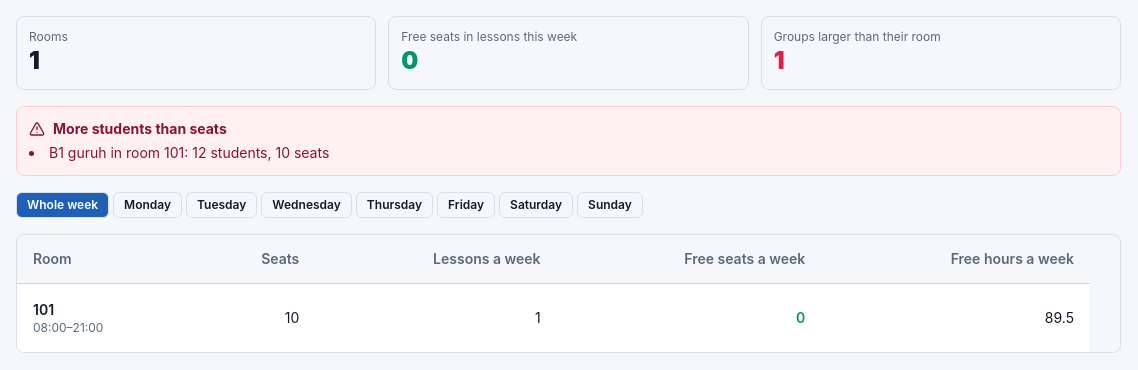
Test: free rooms this week › warns about groups larger than their room and shows free windows per day
This screenshot has width=1138, height=370.
Expected: the list item "B1 guruh in room 101: 12 students, 10 seats" is shown, [49,144,329,161]
Expected: the text "89.5" is shown, [821,283,1090,352]
Click the radio button labelled "Tuesday" at (222, 205), box [186,192,257,218]
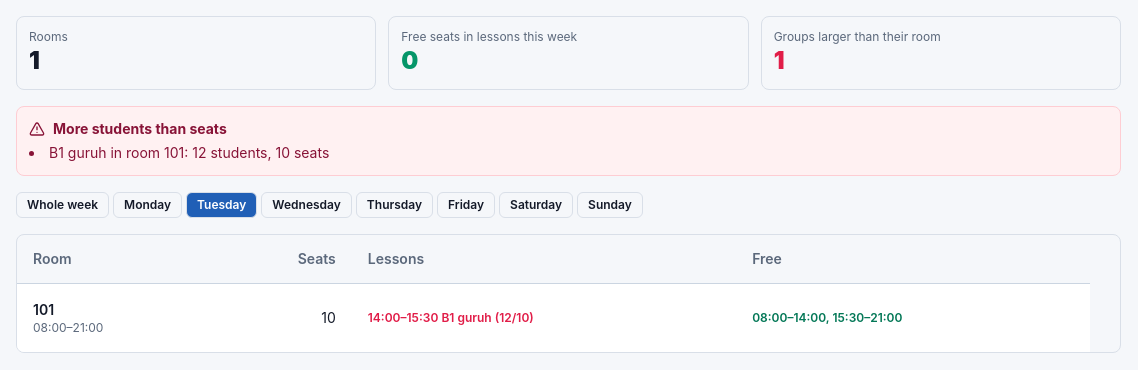
Expected: the text "08:00–14:00, 15:30–21:00" is shown, [736,283,1090,352]
Expected: the text "14:00–15:30 B1 guruh (12/10)" is shown, [368,310,534,324]
